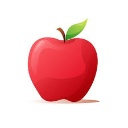apple: (27, 36, 98, 103)
